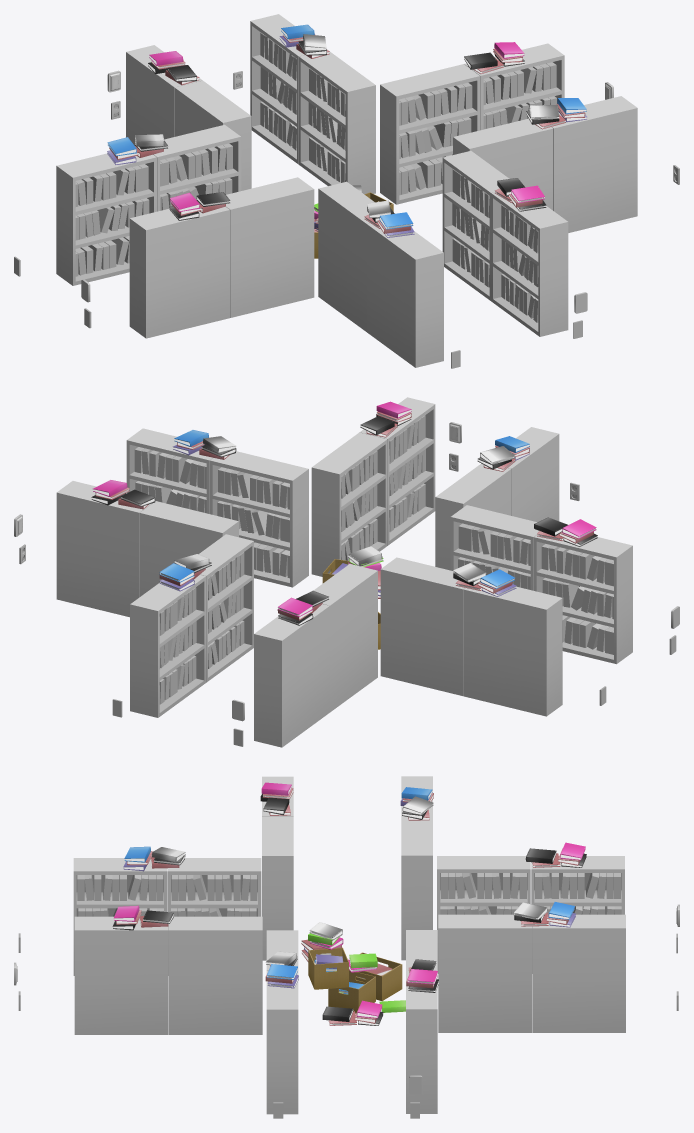
Rendered from Room14Set1.FBX.
3 renders of one model, top to bottom at view 1: azimuth 30°, elevation 25°; view 2: azimuth 150°, elevation 25°; view 3: azimuth 270°, elevation 25°, orthographic. The views are drawn at different scales.
Visible parts, largest first — view 1: bookshelf053, bookshelf054, bookshelf052, bookshelf040, bookshelf043, bookshelf045, bookshelf039, bookshelf050, bookshelf048, Books025, Books027, bookshelf051 (+12 smaller); view 2: bookshelf048, bookshelf047, bookshelf049, bookshelf041, bookshelf044, bookshelf046, bookshelf042, bookshelf051, bookshelf053, Books030, bookshelf050, Books028 (+12 smaller); view 3: bookshelf046, bookshelf043, bookshelf044, bookshelf045, bookshelf052, bookshelf054, bookshelf047, bookshelf049, bookshelf039, bookshelf042, bookshelf040, Books016 (+9 smaller).
Part boxes in pixels (left/top/right/bottom): bookshelf053: left=129, top=206, right=229, bottom=338; bookshelf054: left=226, top=177, right=314, bottom=317; bookshelf052: left=552, top=96, right=637, bottom=232; bookshelf040: left=367, top=223, right=443, bottom=367; bookshelf043: left=299, top=52, right=375, bottom=194; bookshelf045: left=491, top=192, right=568, bottom=336; bookshelf039: left=318, top=181, right=374, bottom=331; bookshelf050: left=380, top=64, right=480, bottom=204; bookshelf048: left=56, top=153, right=156, bottom=285; Books025: left=75, top=164, right=149, bottom=276; Books027: left=399, top=83, right=472, bottom=195; bookshelf051: left=453, top=118, right=553, bottom=210; bookshelf048: left=463, top=586, right=562, bottom=716; bookshelf047: left=380, top=557, right=465, bottom=696; bookshelf049: left=56, top=481, right=152, bottom=617; bookshelf041: left=254, top=604, right=329, bottom=747; bookshelf044: left=130, top=575, right=205, bottom=717; bookshelf046: left=311, top=432, right=387, bottom=576; bookshelf042: left=313, top=564, right=377, bottom=712; bookshelf051: left=210, top=451, right=308, bottom=587; bookshelf053: left=534, top=535, right=632, bottom=664; Books030: left=541, top=544, right=613, bottom=654; bookshelf050: left=139, top=501, right=238, bottom=596; Books028: left=217, top=467, right=289, bottom=578; bookshelf046: left=168, top=916, right=262, bottom=1034; bookshelf043: left=438, top=914, right=531, bottom=1032; bookshelf044: left=532, top=914, right=625, bottom=1032; bookshelf045: left=74, top=916, right=168, bottom=1034; bookshelf052: left=266, top=970, right=298, bottom=1114; bookshelf054: left=262, top=816, right=293, bottom=960; bookshelf047: left=401, top=816, right=432, bottom=960; bookshelf049: left=406, top=969, right=437, bottom=1113; bookshelf039: left=167, top=858, right=261, bottom=975; bookshelf042: left=437, top=856, right=530, bottom=973; bookshelf040: left=73, top=858, right=167, bottom=975; Books016: left=171, top=875, right=257, bottom=916.
Bounding box in the file's own units: 120 × 24.26 × 120.
